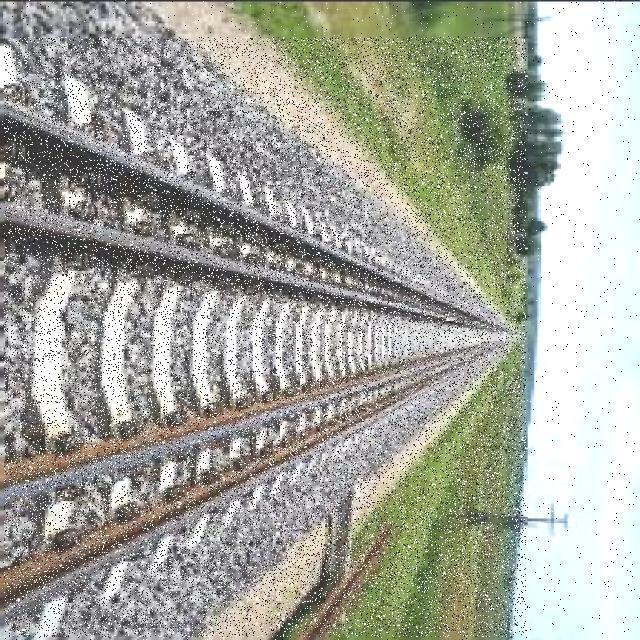rail: (5, 37, 526, 637)
